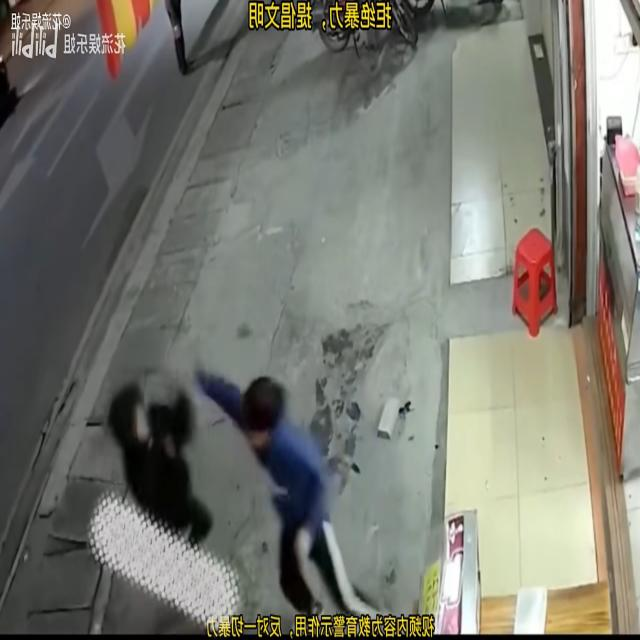nofight: (234, 360, 348, 628), (110, 350, 196, 595)
